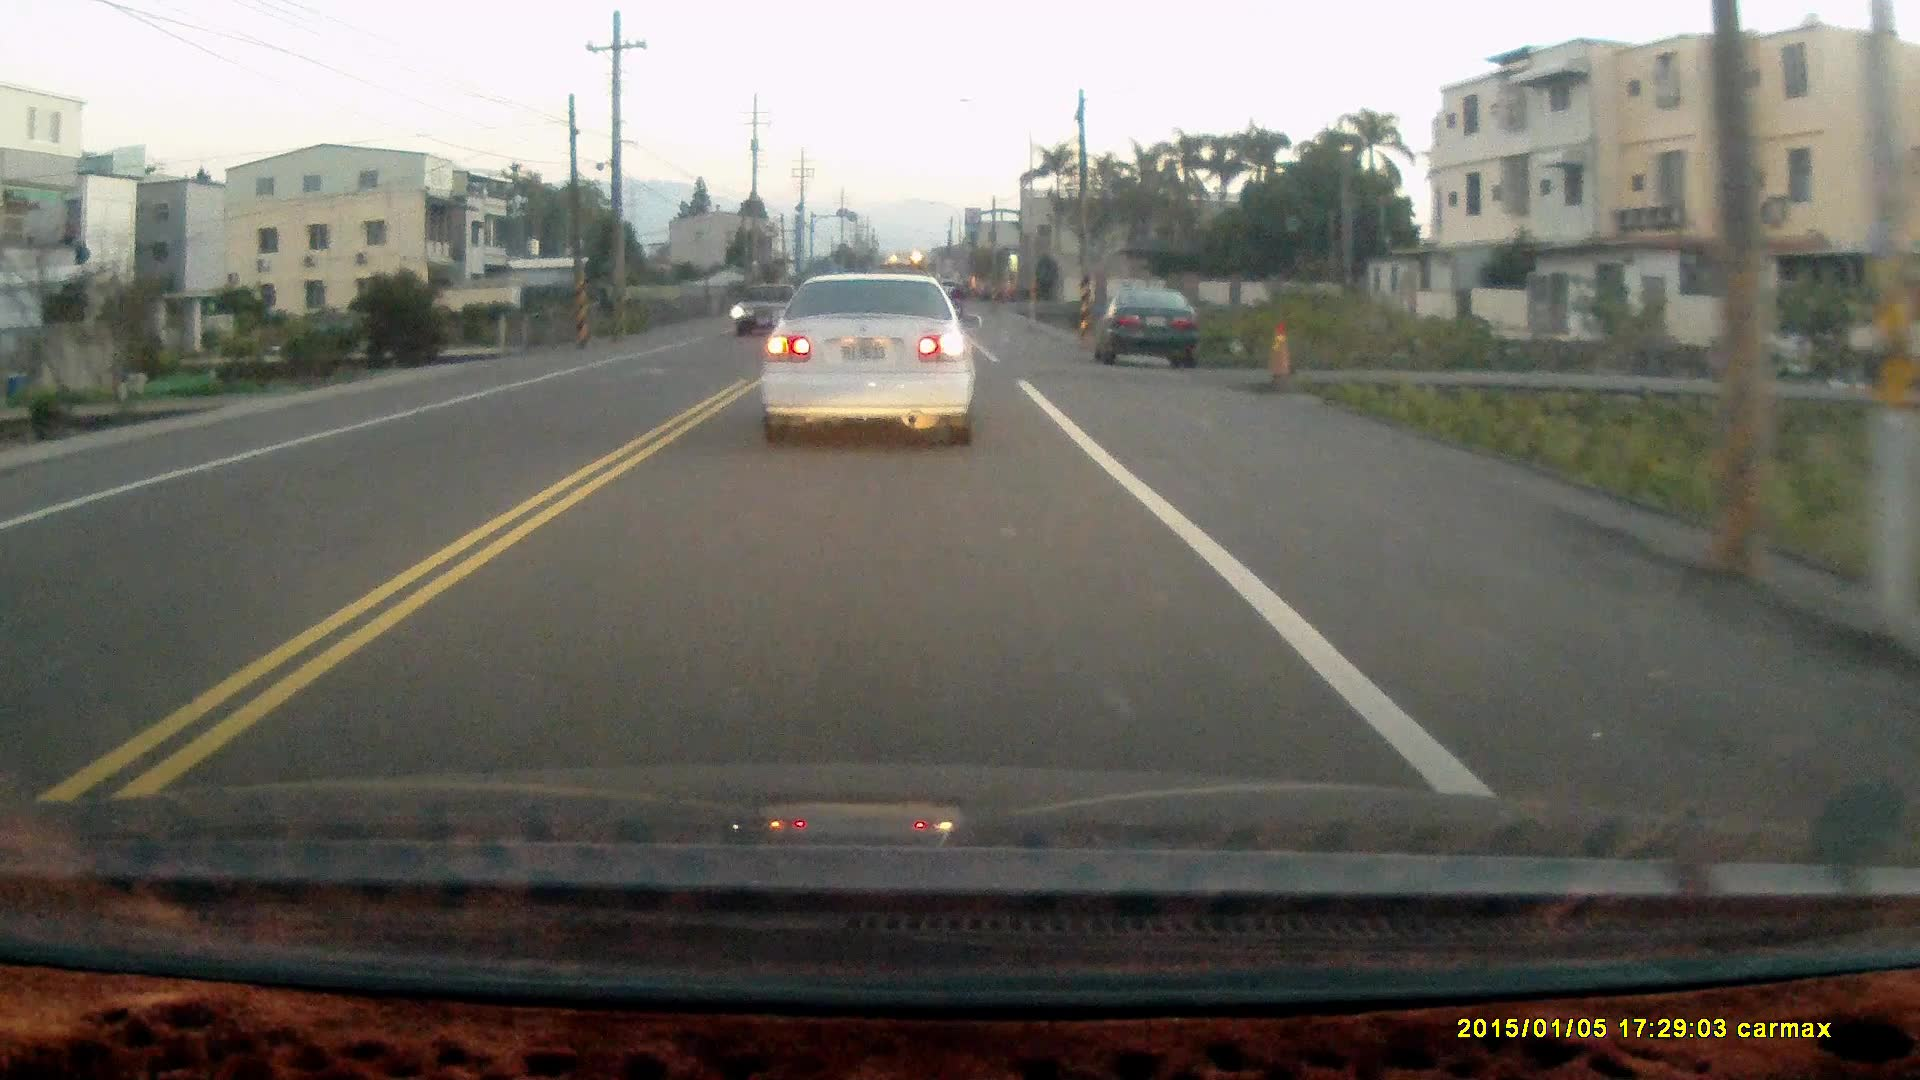vehicle: (758, 272, 975, 454), (1097, 290, 1201, 373), (733, 284, 798, 342)
